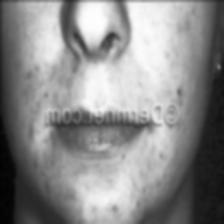Non-Cancerous Skin Condition: (5, 54, 58, 165), (44, 173, 134, 222), (114, 17, 169, 84), (147, 130, 183, 184), (172, 84, 183, 100)
